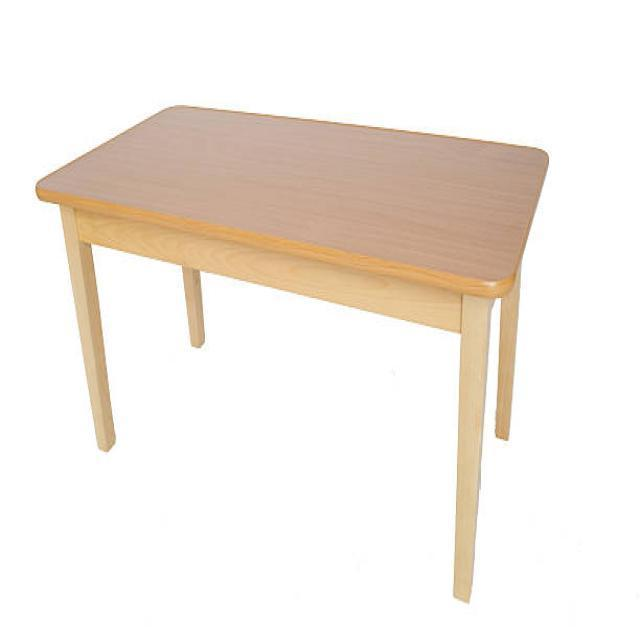table: (34, 102, 550, 602)
